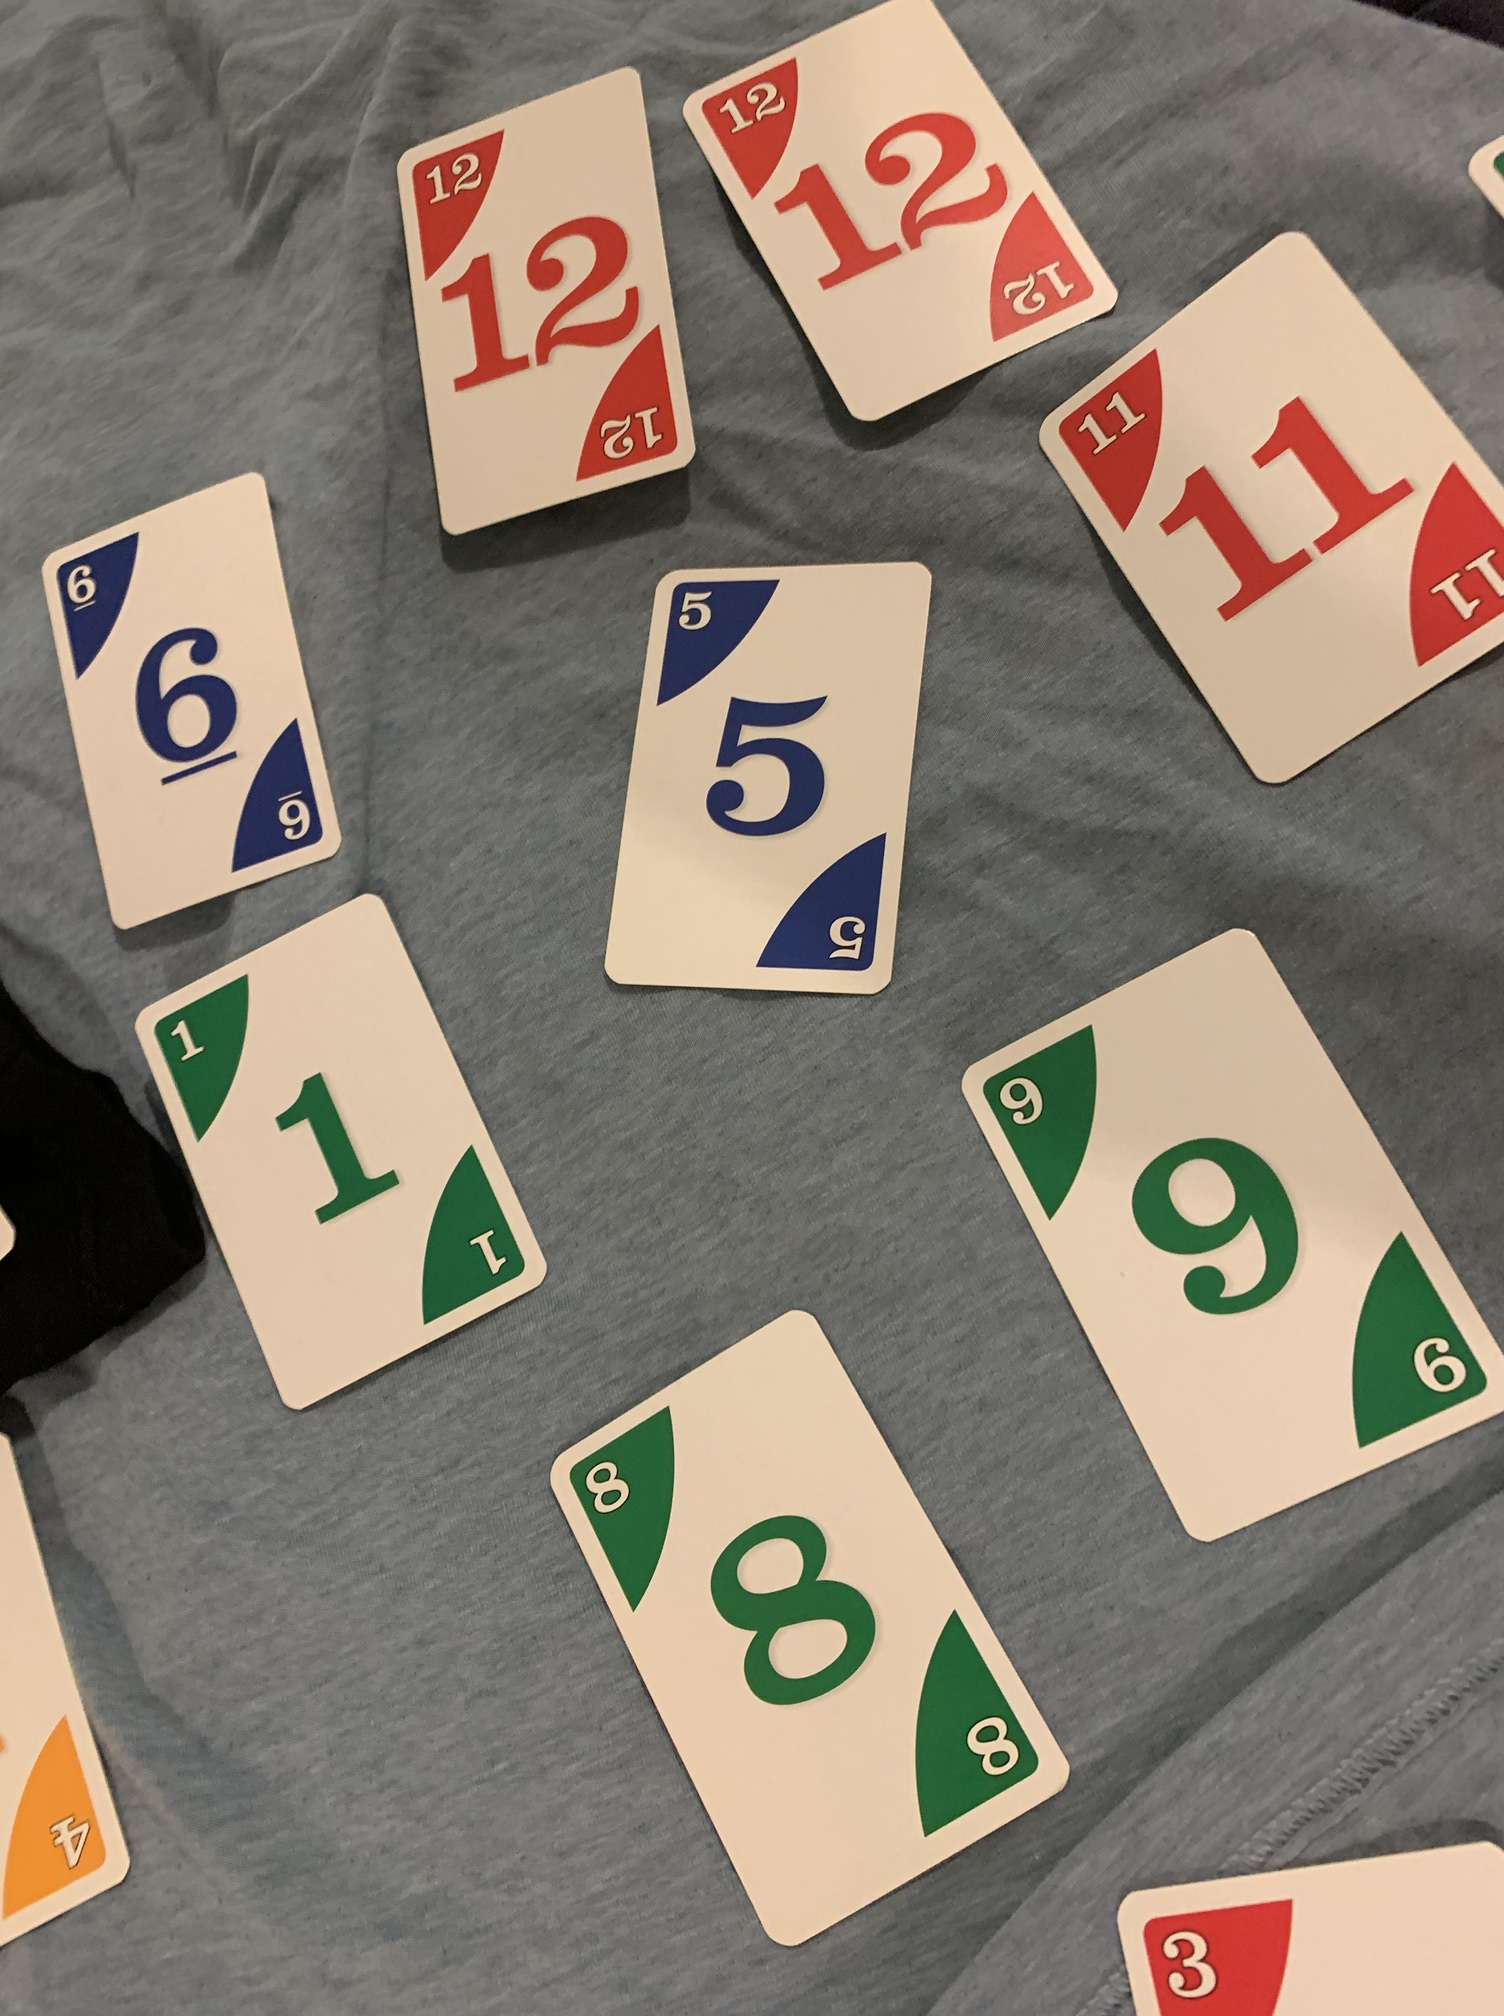eight: (539, 1302, 1073, 1956)
eleven: (1044, 228, 1504, 806)
five: (596, 548, 938, 1024)
nine: (957, 920, 1504, 1596)
one: (118, 896, 558, 1435)
six: (28, 465, 362, 948)
twelve: (679, 9, 1134, 453), (387, 55, 697, 569)
